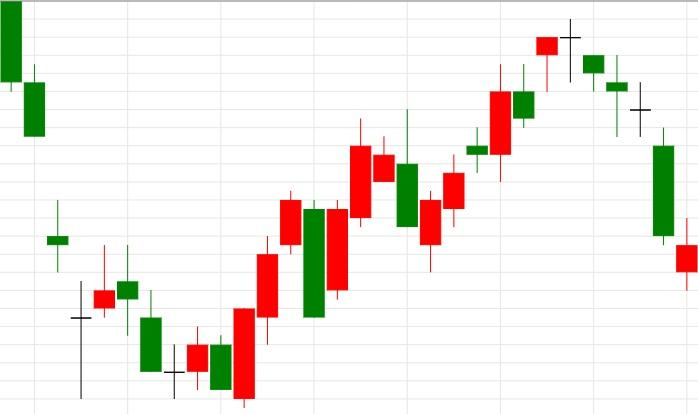evening_star_fall: (420, 19, 605, 273)
